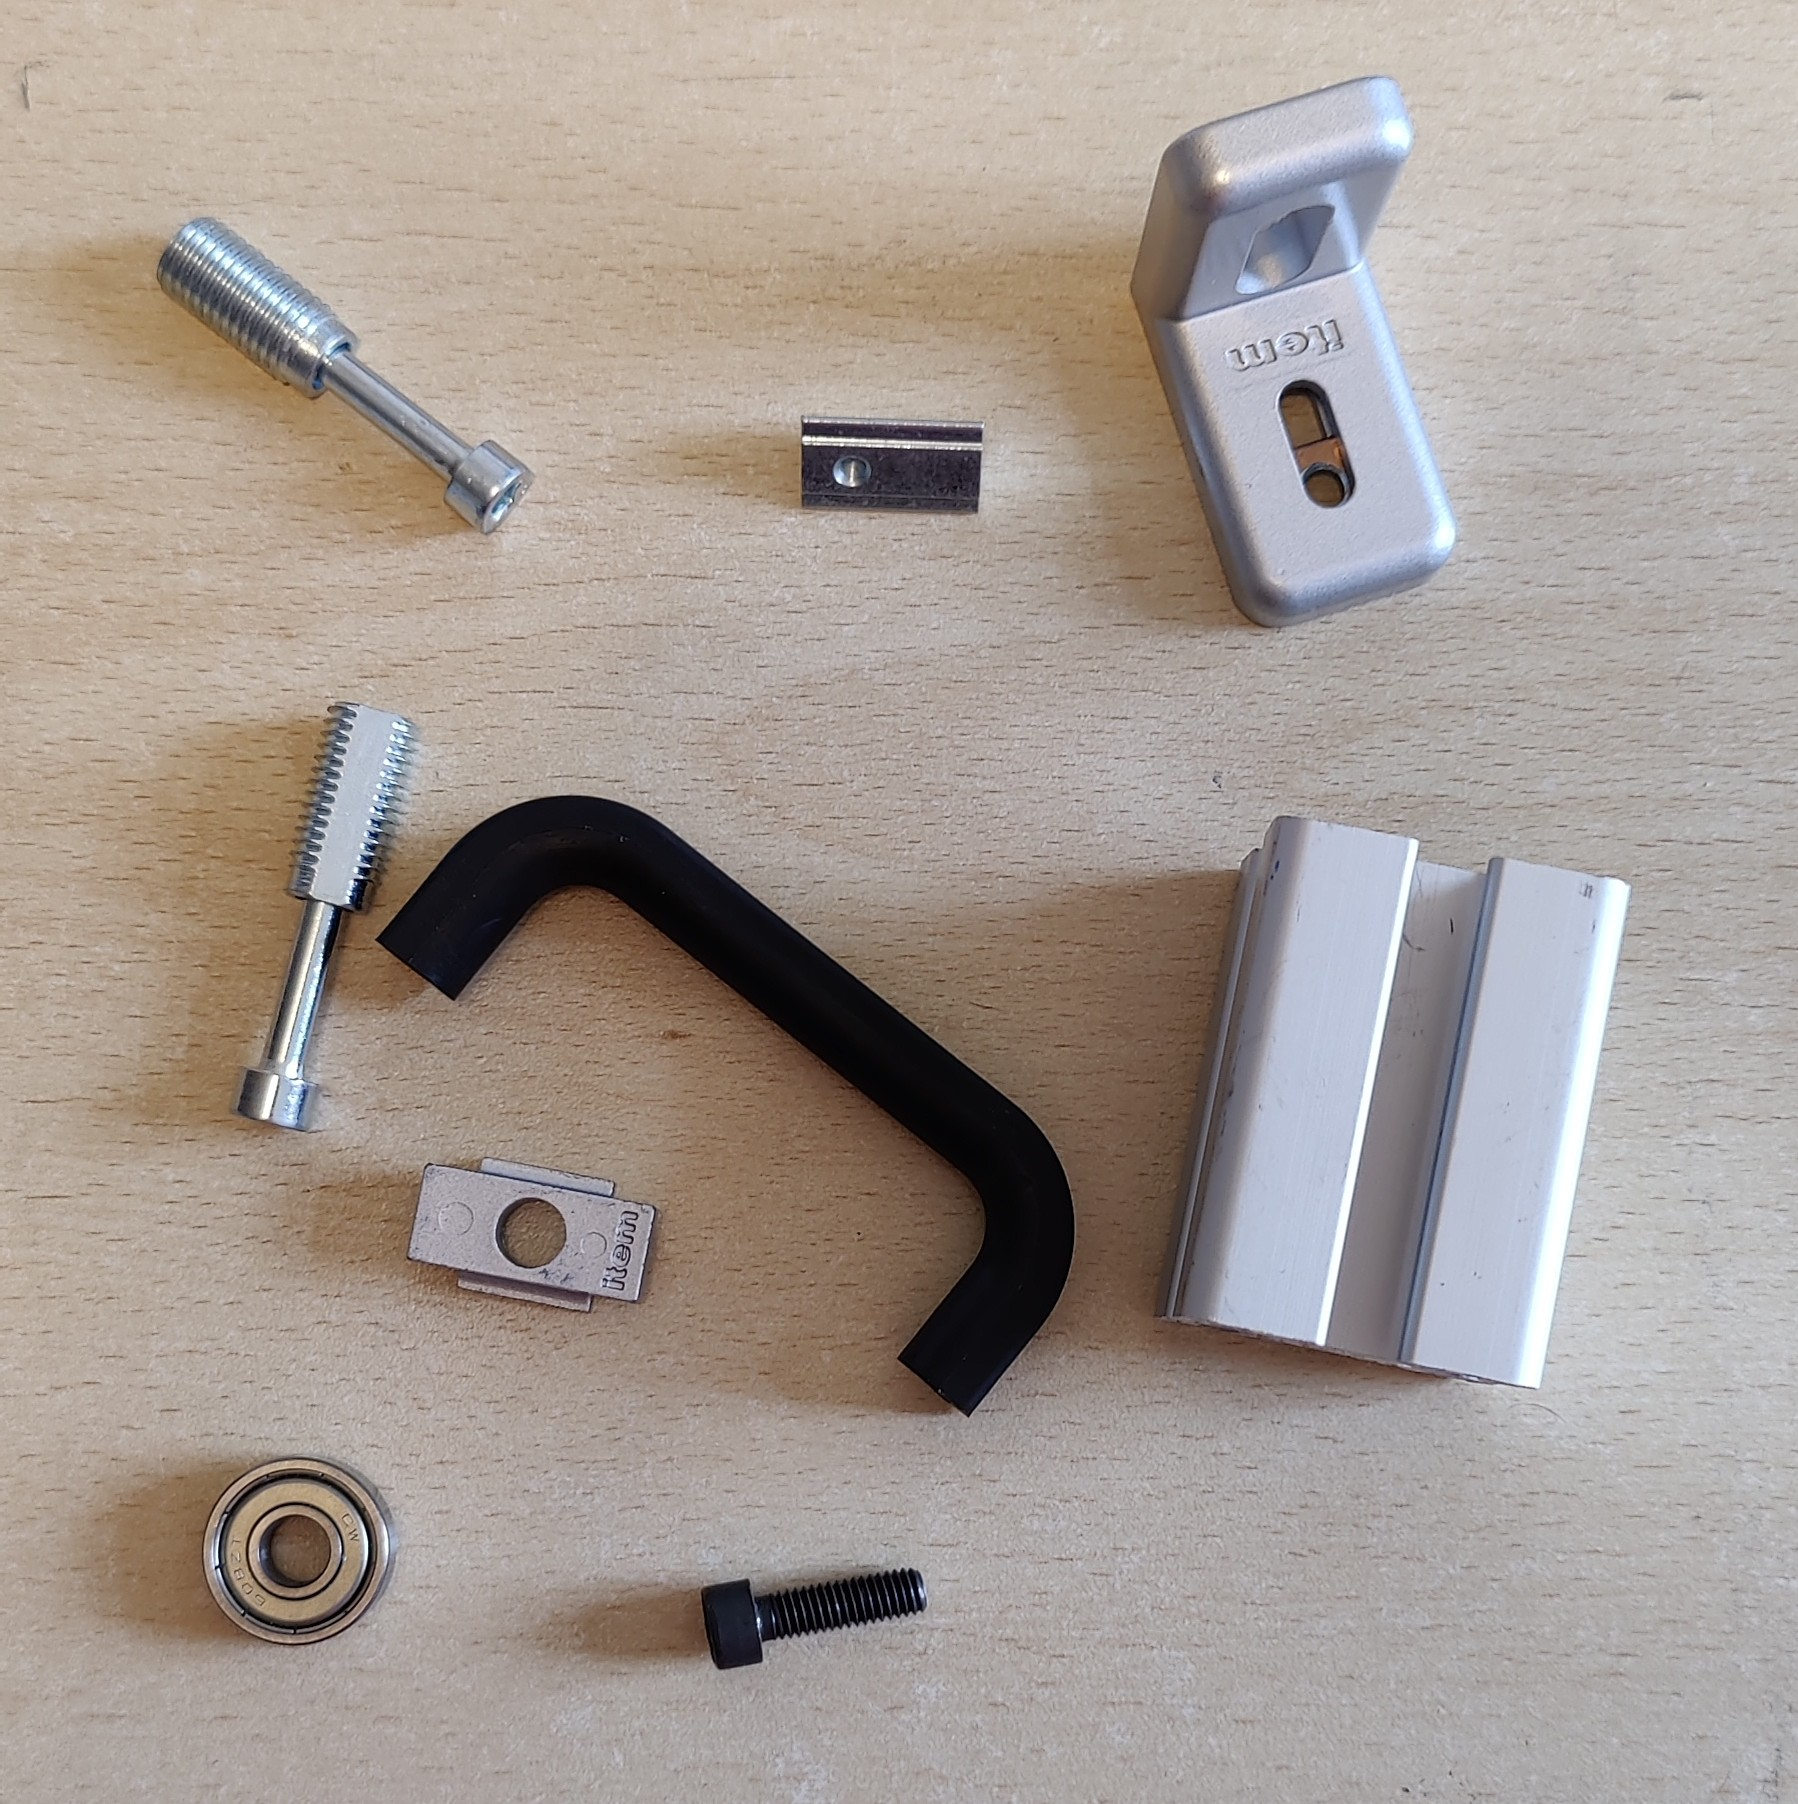Aluminium Extension: (1149, 811, 1632, 1393)
Ball Bearing: (199, 1452, 398, 1649)
Multiwinkel: (1125, 71, 1462, 629)
Pull Handle: (369, 788, 1075, 1419)
Shoulder Socket Head Cap Screw: (151, 212, 543, 537), (226, 700, 425, 1132)
Socket Head Cap Screw: (700, 1562, 930, 1671)
T Nut Square: (402, 1152, 665, 1318)
T Spring Nut: (795, 408, 990, 518)
